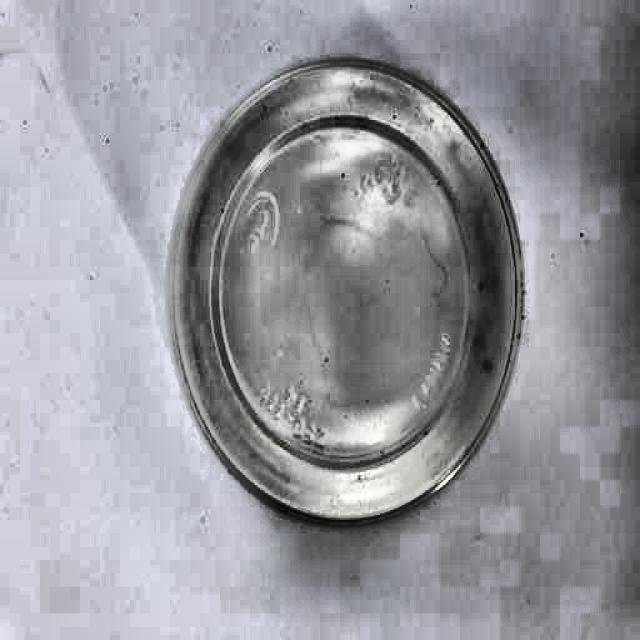plastic: (162, 58, 528, 531)
